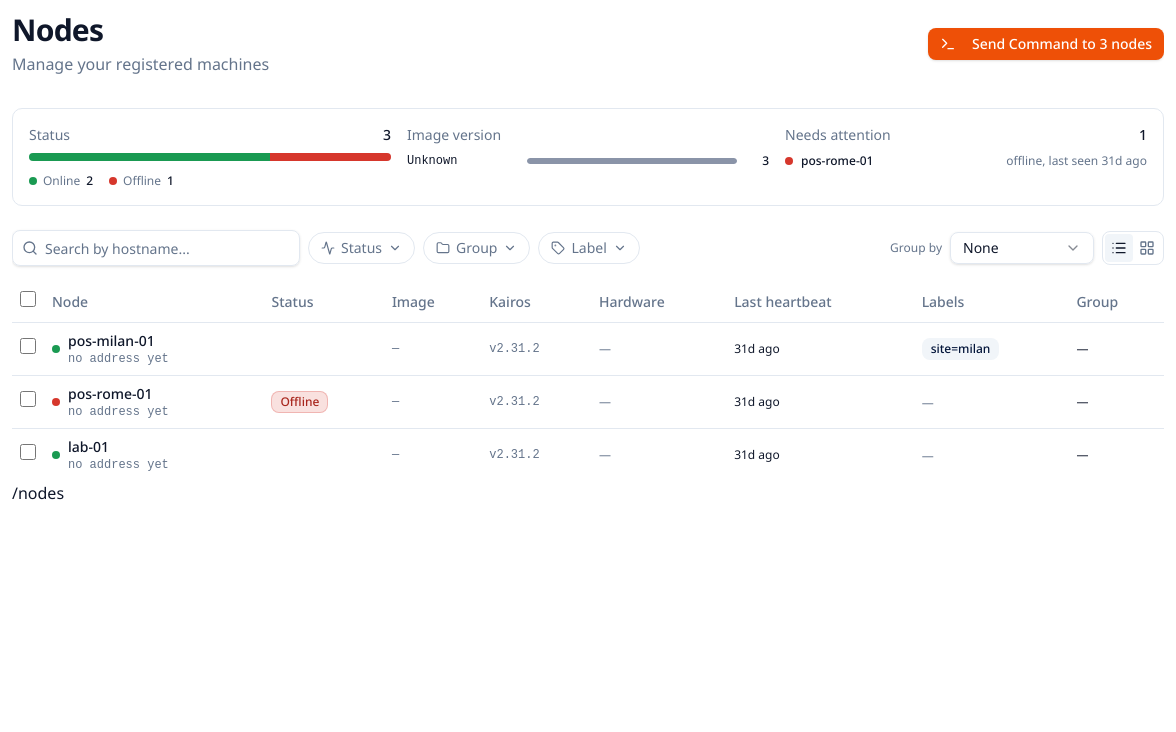
Test: Nodes selection › shows a selection bar with the count, and a checkbox click does not open the node
The image size is (1176, 732).
Expected: the text "selected" is not shown
Expected: the text "lab-01" is shown, [68,436,109,456]
Click the checkbox named "Select pos-milan-01" at point(28, 346), box [20,338,36,354]
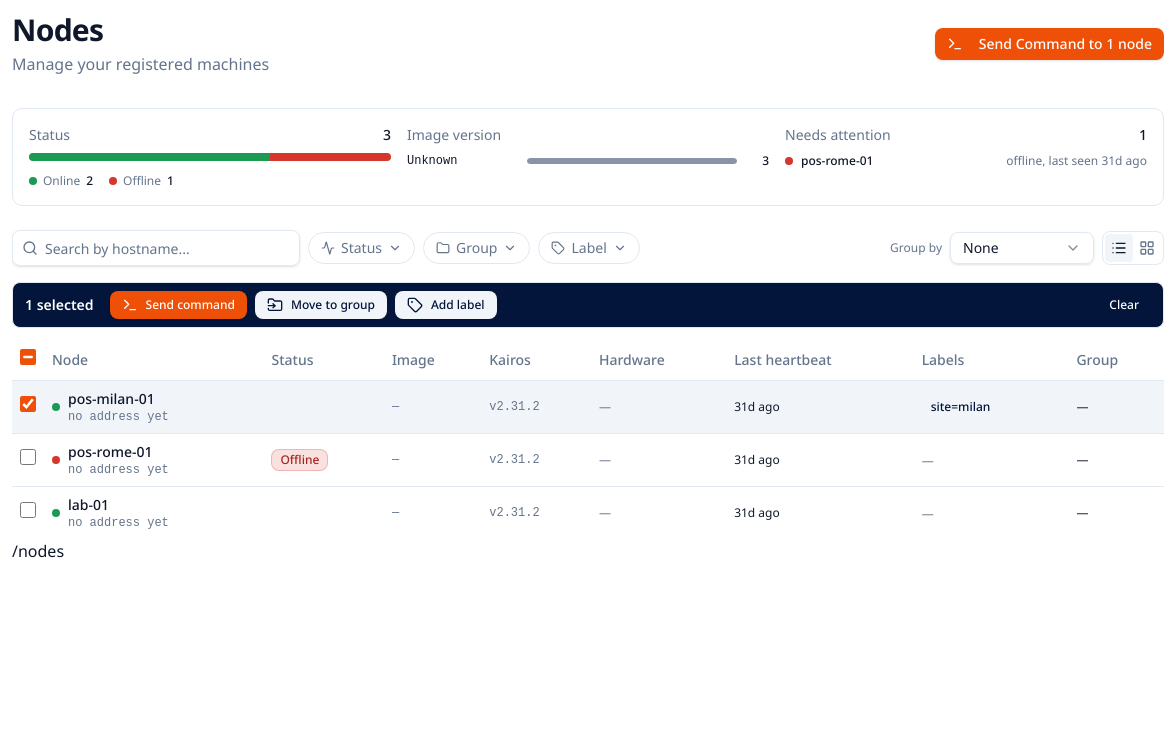
Click the checkbox named "Select lab-01" at point(28, 510), box [20,502,36,518]
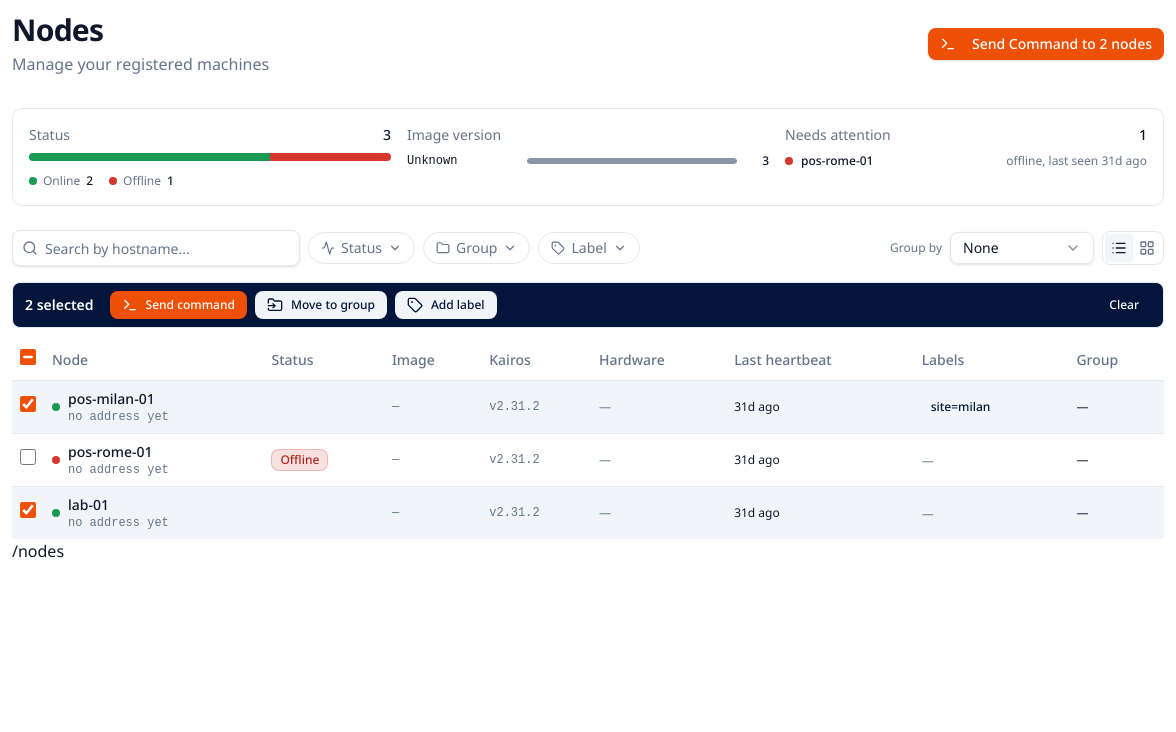
Expected: the text with test id "location" reads "/nodes", [12,540,64,562]
Now the text "2 selected" is shown, box [25,295,94,315]
Click the button "Clear" at point(1124, 305), box [1097,291,1151,319]
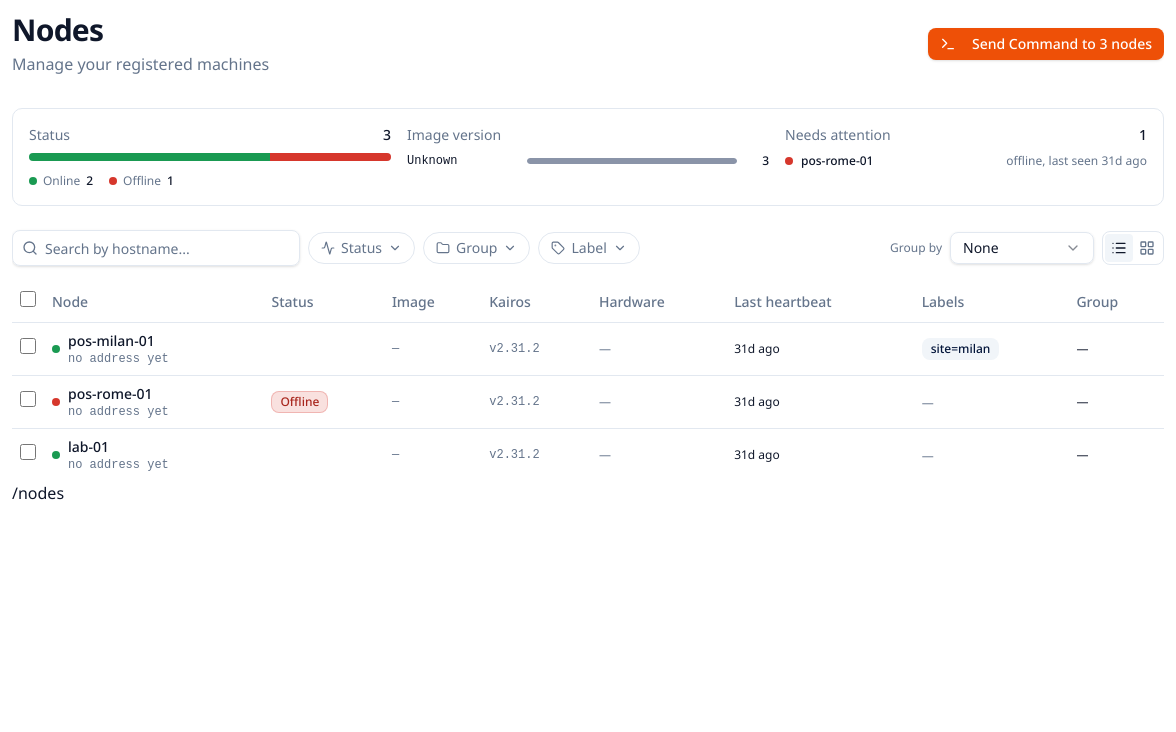
Now the text "2 selected" is gone
